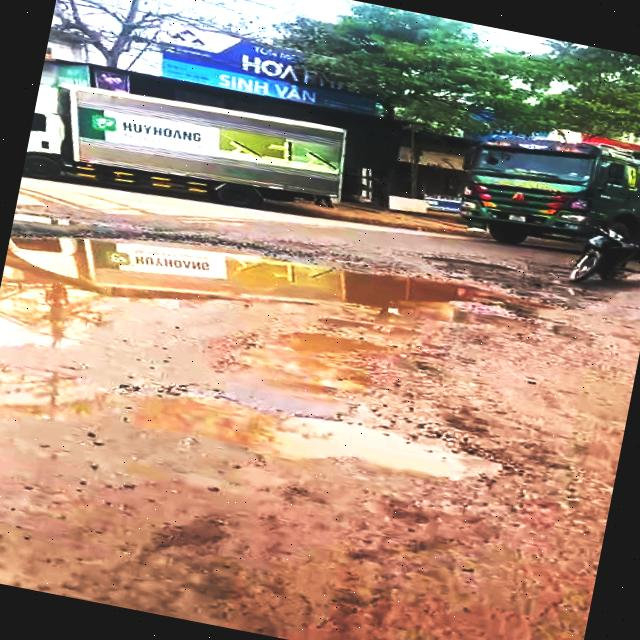pothole: (0, 166, 607, 467), (119, 369, 524, 508), (236, 300, 439, 416)
